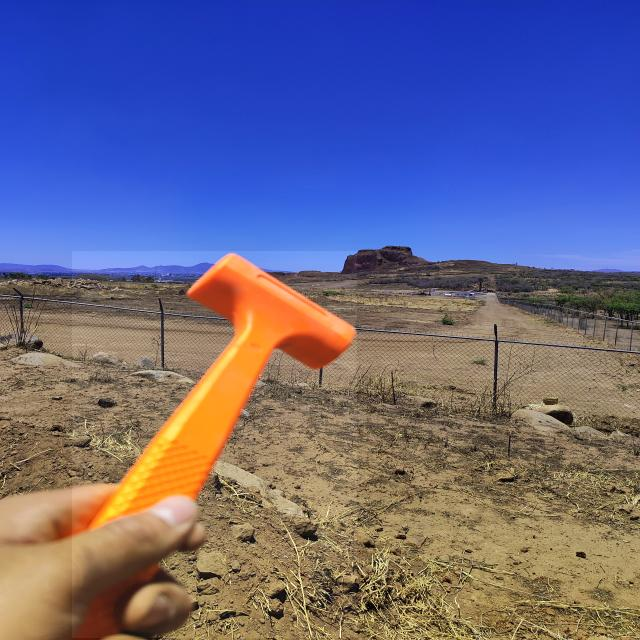Orange_hammer: (72, 251, 357, 638)
